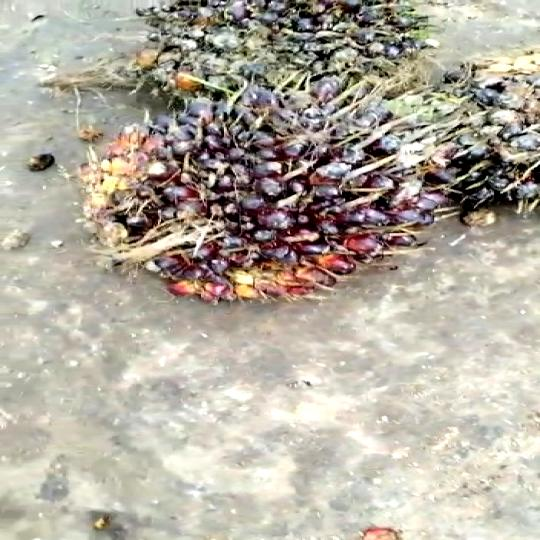kurang masak: (93, 85, 455, 289), (139, 1, 448, 101), (428, 58, 540, 198)
